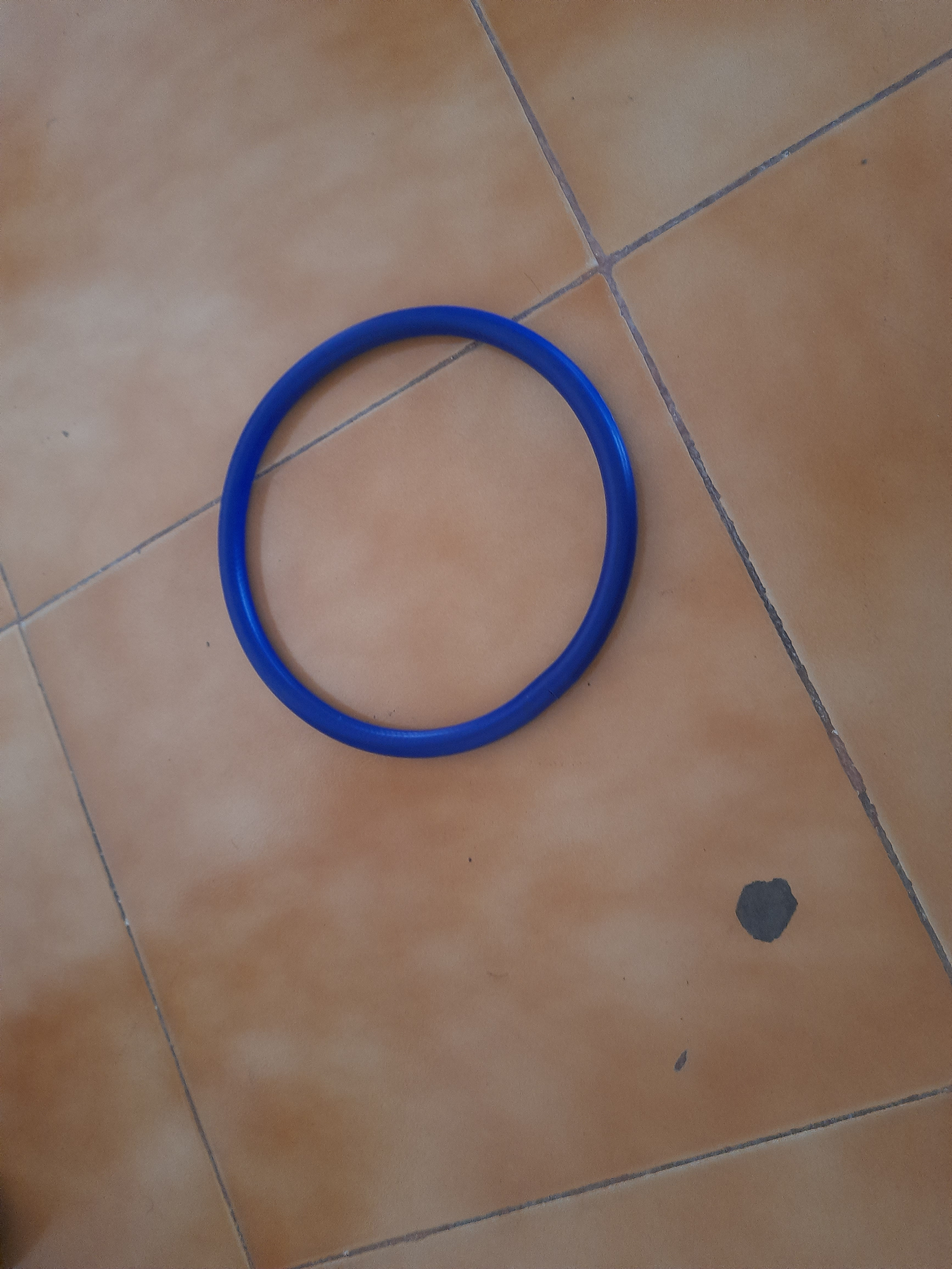Blue ring: (214, 305, 637, 762)
